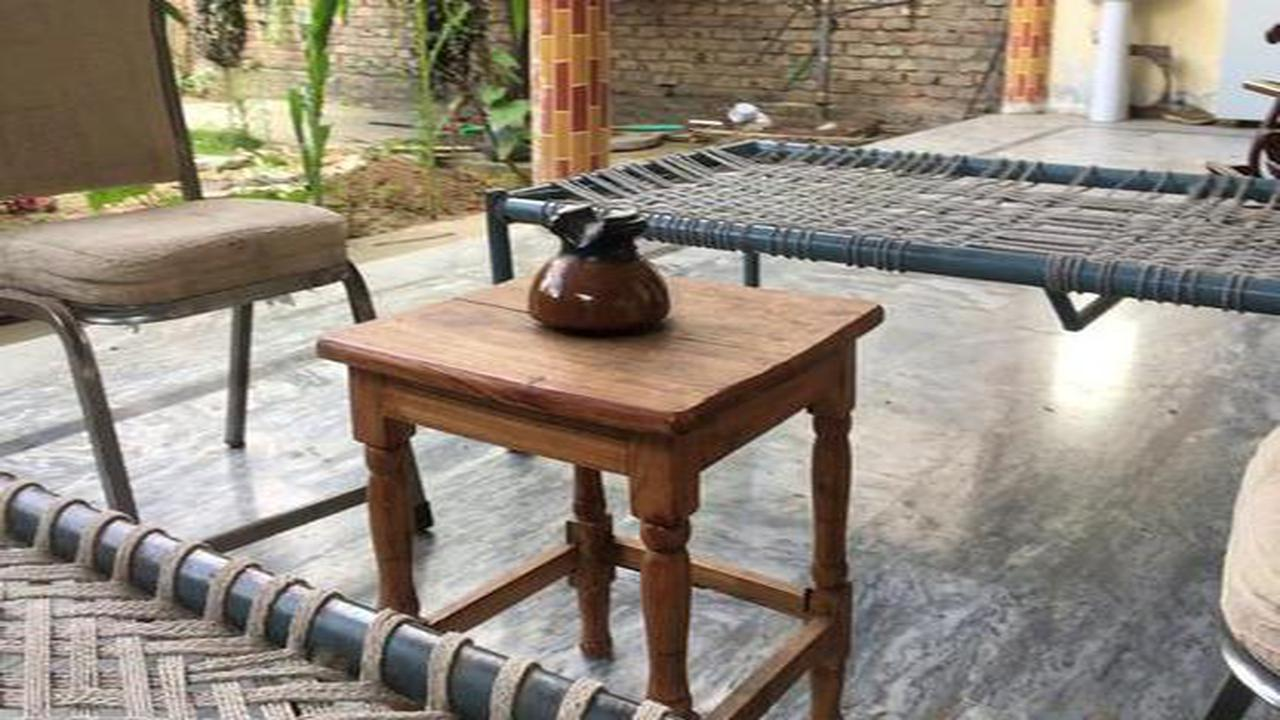insulator_pin: (511, 187, 696, 347)
